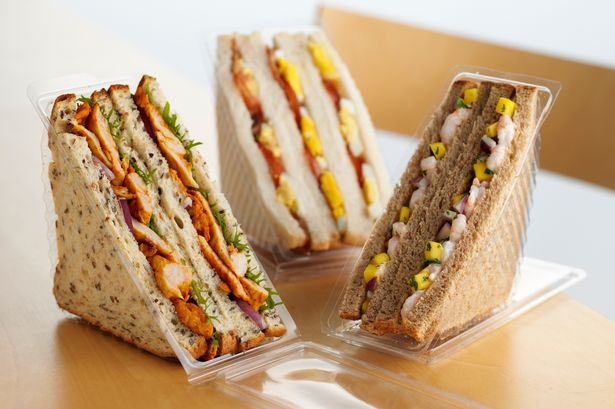sandwich: (20, 66, 310, 398), (320, 46, 575, 362), (196, 18, 417, 274)
